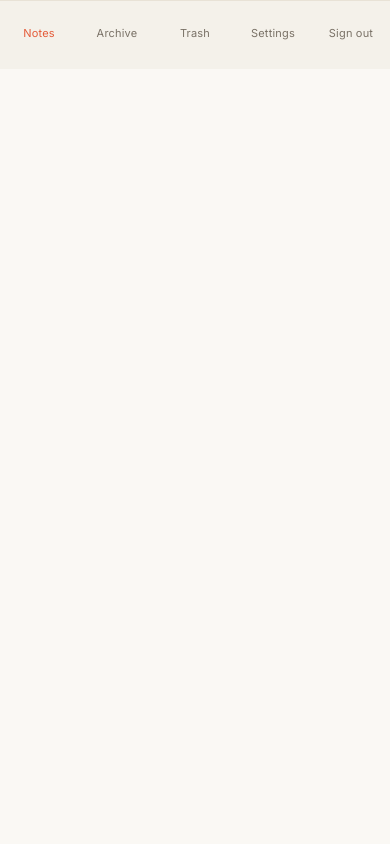
MobileTabBar › asks for confirmation without signing out immediately
This screenshot has width=390, height=844.
Step 1. Click the button "Sign out" → (351, 33), box [312, 7, 389, 59]
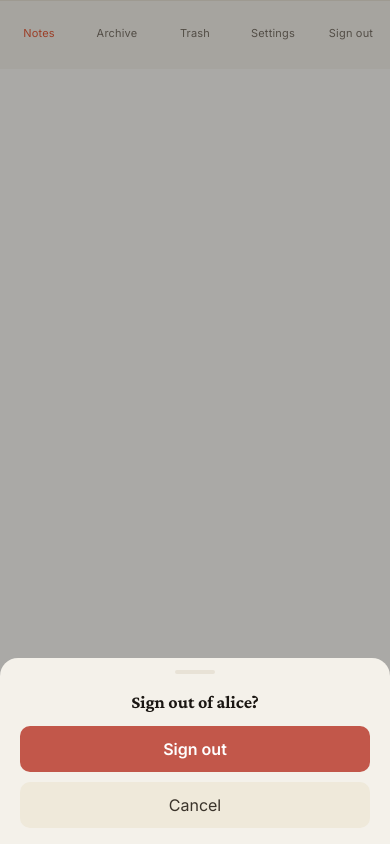
Check: the dialog named "Sign out confirmation" shows "Sign out of alice?", box [131, 692, 259, 712]
